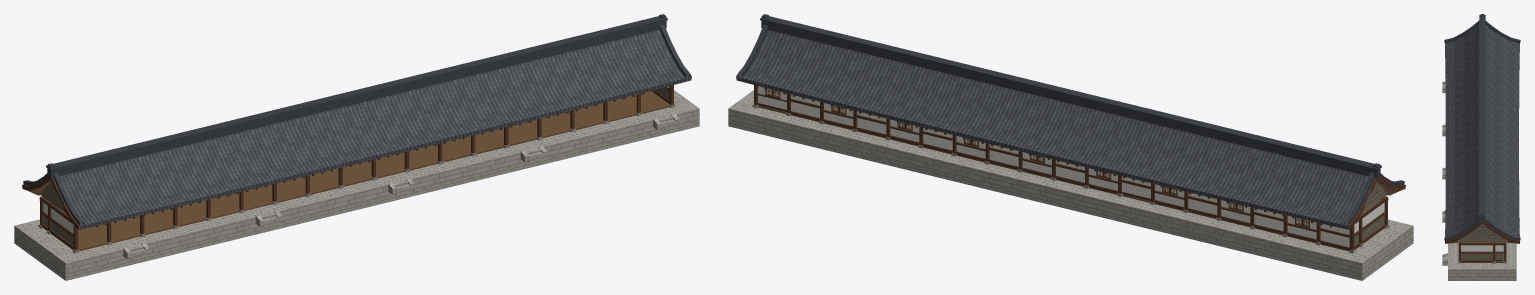
3 views of the same model, side by side, from view 1: azimuth 30°, elevation 25°; view 2: azimuth 150°, elevation 25°; view 3: azimuth 270°, elevation 25° (orthographic). The views are drawn at different scales.
Visible parts, largest first — view 1: seojae; view 2: seojae; view 3: seojae.
Part boxes in pixels (box(x1,y1,x2,y2)): seojae: box(14, 14, 699, 280); seojae: box(728, 14, 1413, 280); seojae: box(1442, 14, 1520, 280).
Size of the model in its own units: 54.01 by 7.71 by 8.66.
Materials: 11 (9 with a texture image).
